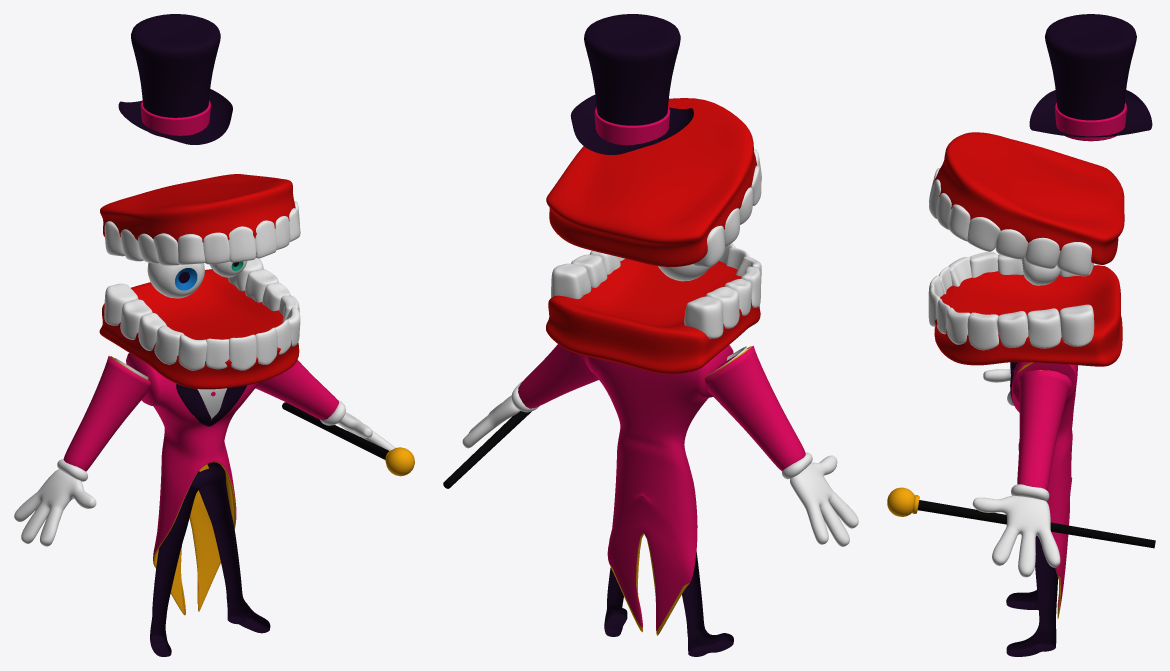
The model's file is caine_the_amazing_digital_cirucs.glb.
3 renders of one model, left to right at view 1: azimuth 30°, elevation 25°; view 2: azimuth 150°, elevation 25°; view 3: azimuth 270°, elevation 25°, orthographic. The views are drawn at different scales.
Parts seen in each view (by area): view 1: Plane_001_4_15, Circle_003_2_6, Plane_003.002_9_32, Circle_004_3_11, Plane.001_7_28, Plane.003_8_30, Circle_1_3, Sphere_5_20; view 2: Plane_001_4_15, Circle_003_2_6, Plane_003.002_9_32, Circle_004_3_11, Plane.003_8_30, Circle_1_3, Plane.001_7_28; view 3: Plane_001_4_15, Circle_004_3_11, Circle_003_2_6, Circle_1_3, Plane.001_7_28, Sphere_003_6_24, Plane.003_8_30, Plane_003.002_9_32.
Part boxes in pixels (x1,y1,x2,y2): Plane_001_4_15: (99, 14, 300, 389); Circle_003_2_6: (126, 353, 260, 615); Plane_003.002_9_32: (14, 356, 150, 546); Circle_004_3_11: (255, 359, 395, 450); Plane.001_7_28: (198, 472, 270, 633); Plane.003_8_30: (150, 488, 199, 656); Circle_1_3: (282, 402, 414, 476); Sphere_5_20: (147, 262, 204, 298); Plane_001_4_15: (546, 14, 761, 374); Circle_003_2_6: (584, 345, 733, 635); Plane_003.002_9_32: (704, 346, 858, 546); Circle_004_3_11: (462, 344, 598, 448); Plane.003_8_30: (682, 552, 733, 656); Circle_1_3: (443, 411, 531, 488); Plane.001_7_28: (604, 567, 627, 636); Plane_001_4_15: (928, 14, 1152, 366); Circle_004_3_11: (972, 370, 1071, 577); Circle_003_2_6: (1010, 362, 1077, 618); Circle_1_3: (887, 487, 1155, 548); Plane.001_7_28: (1006, 535, 1058, 656); Sphere_003_6_24: (1022, 257, 1060, 285); Plane.003_8_30: (1006, 590, 1038, 609); Plane_003.002_9_32: (983, 369, 1075, 405).
Size of the model in its own units: 2.56 by 3.97 by 1.61.
